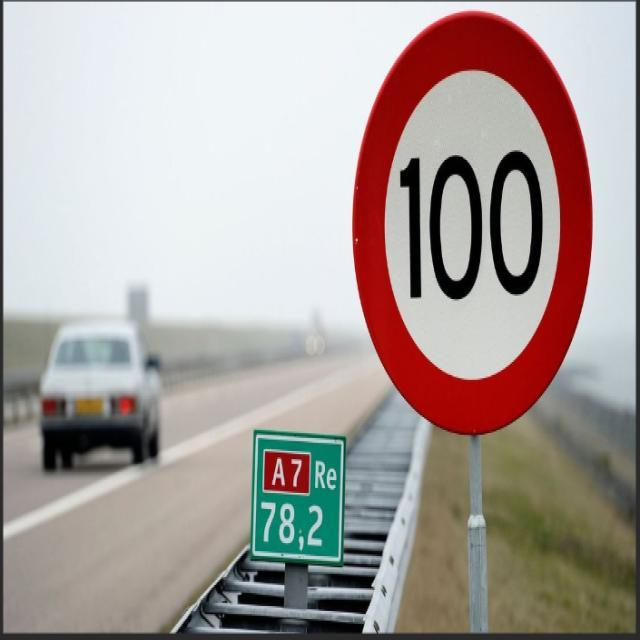forb_speed_over_100: (352, 7, 595, 438)
